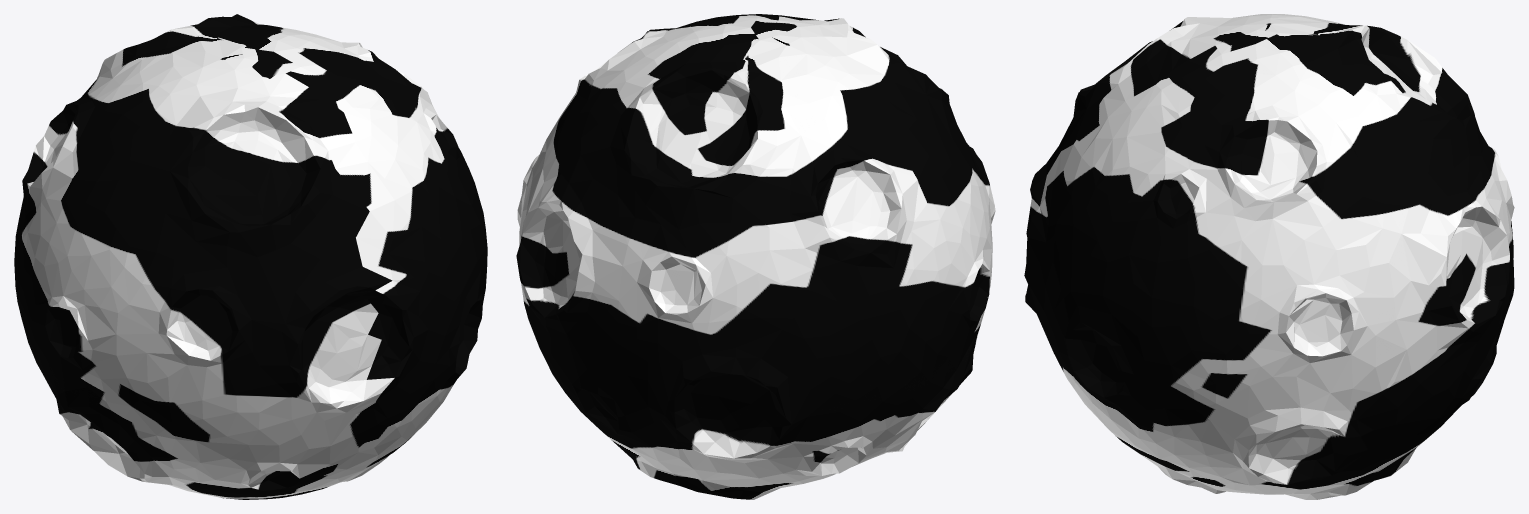
Rendered from SM_Env_Asteroid_Round_02.fbx.
3 views of the same model, side by side, from view 1: azimuth 30°, elevation 25°; view 2: azimuth 150°, elevation 25°; view 3: azimuth 270°, elevation 25° (orthographic).
Parts seen in each view (by area): view 1: SM_Env_Asteroid_Round_02_LOD0; view 2: SM_Env_Asteroid_Round_02_LOD0; view 3: SM_Env_Asteroid_Round_02_LOD0.
Part boxes in pixels (box(x1,y1,x2,y2)): SM_Env_Asteroid_Round_02_LOD0: box(14, 14, 487, 499); SM_Env_Asteroid_Round_02_LOD0: box(516, 14, 995, 499); SM_Env_Asteroid_Round_02_LOD0: box(1024, 14, 1514, 499).
Size of the model in its own units: 25362 by 25375 by 25405.
Materials: 1 (1 with a texture image).
